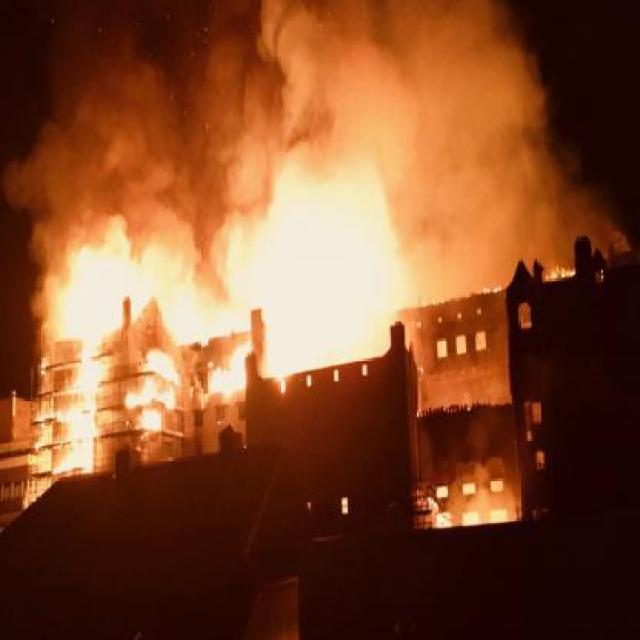Fire: (43, 222, 128, 456), (262, 206, 388, 362), (280, 165, 386, 218), (214, 220, 258, 332), (170, 272, 212, 341), (134, 238, 168, 322), (142, 348, 173, 436), (432, 507, 510, 530), (385, 258, 407, 320), (214, 353, 248, 390), (229, 340, 257, 356), (124, 392, 142, 410)
